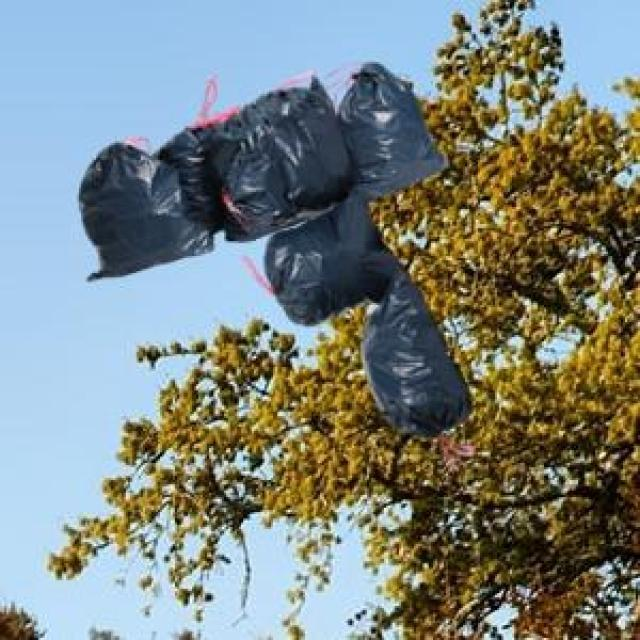miscellaneous trash: (218, 73, 467, 433), (75, 58, 444, 275)
